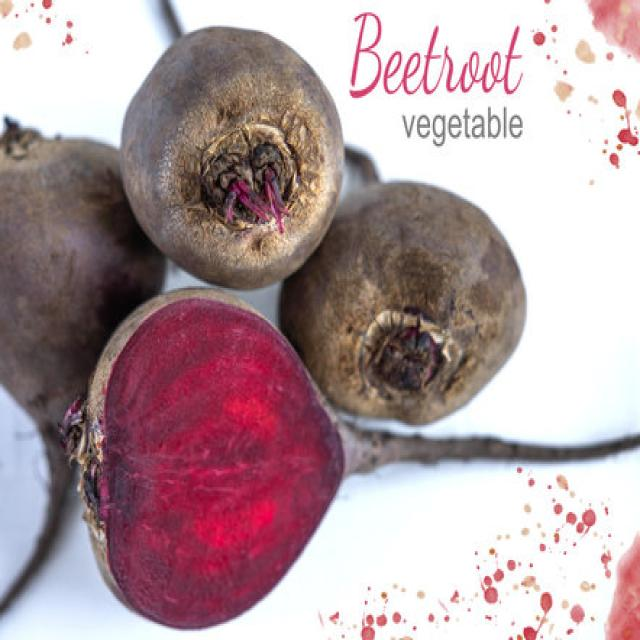Beetroot: (58, 284, 346, 630), (0, 114, 167, 631), (128, 21, 337, 292), (292, 178, 520, 420)
